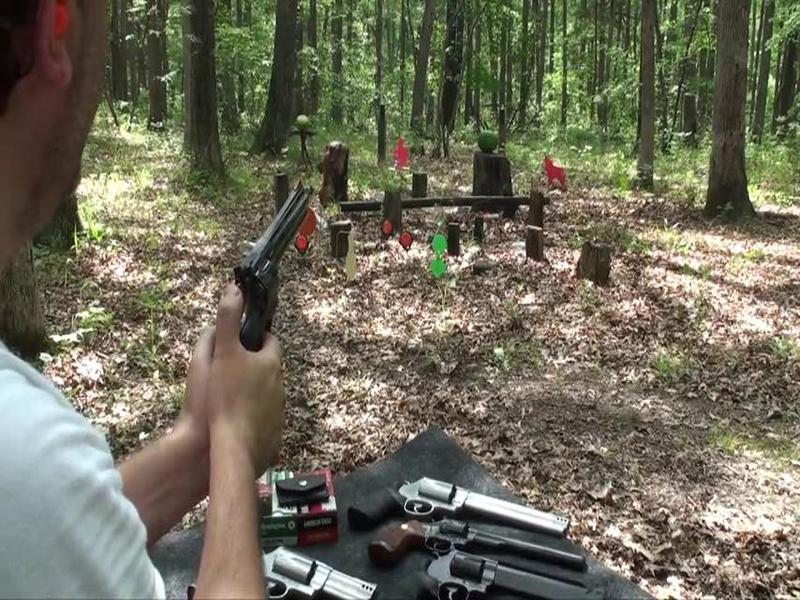Revolver: (198, 177, 328, 386)
